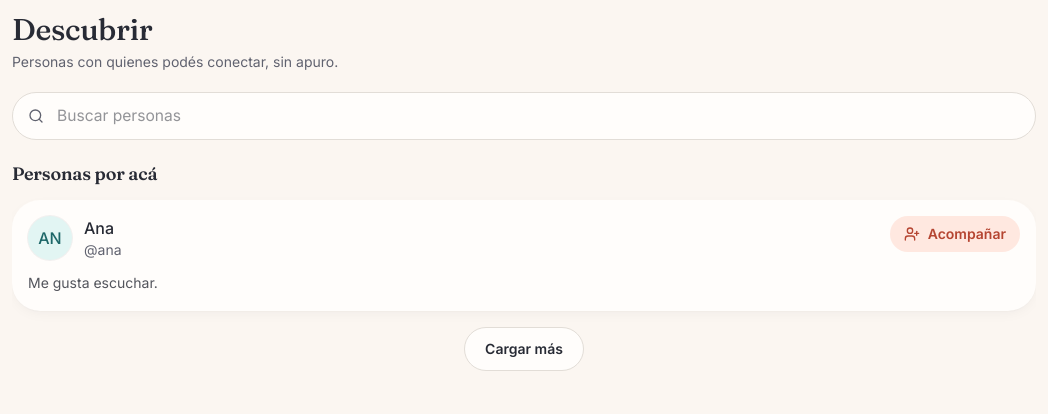
it: DiscoverPage › keeps loaded people when the next page fails
Click the button "Cargar más" at {"x": 524, "y": 349}, box x1=464 y1=327 x2=584 y2=371
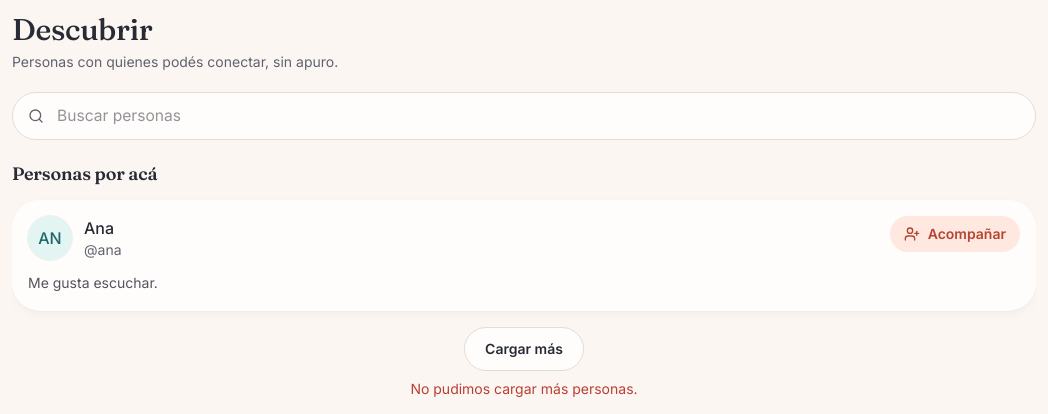
Expected: the text "Ana" is shown, x1=84 y1=218 x2=114 y2=238
Expected: the message reads "No pudimos cargar más personas.", x1=410 y1=380 x2=638 y2=397
